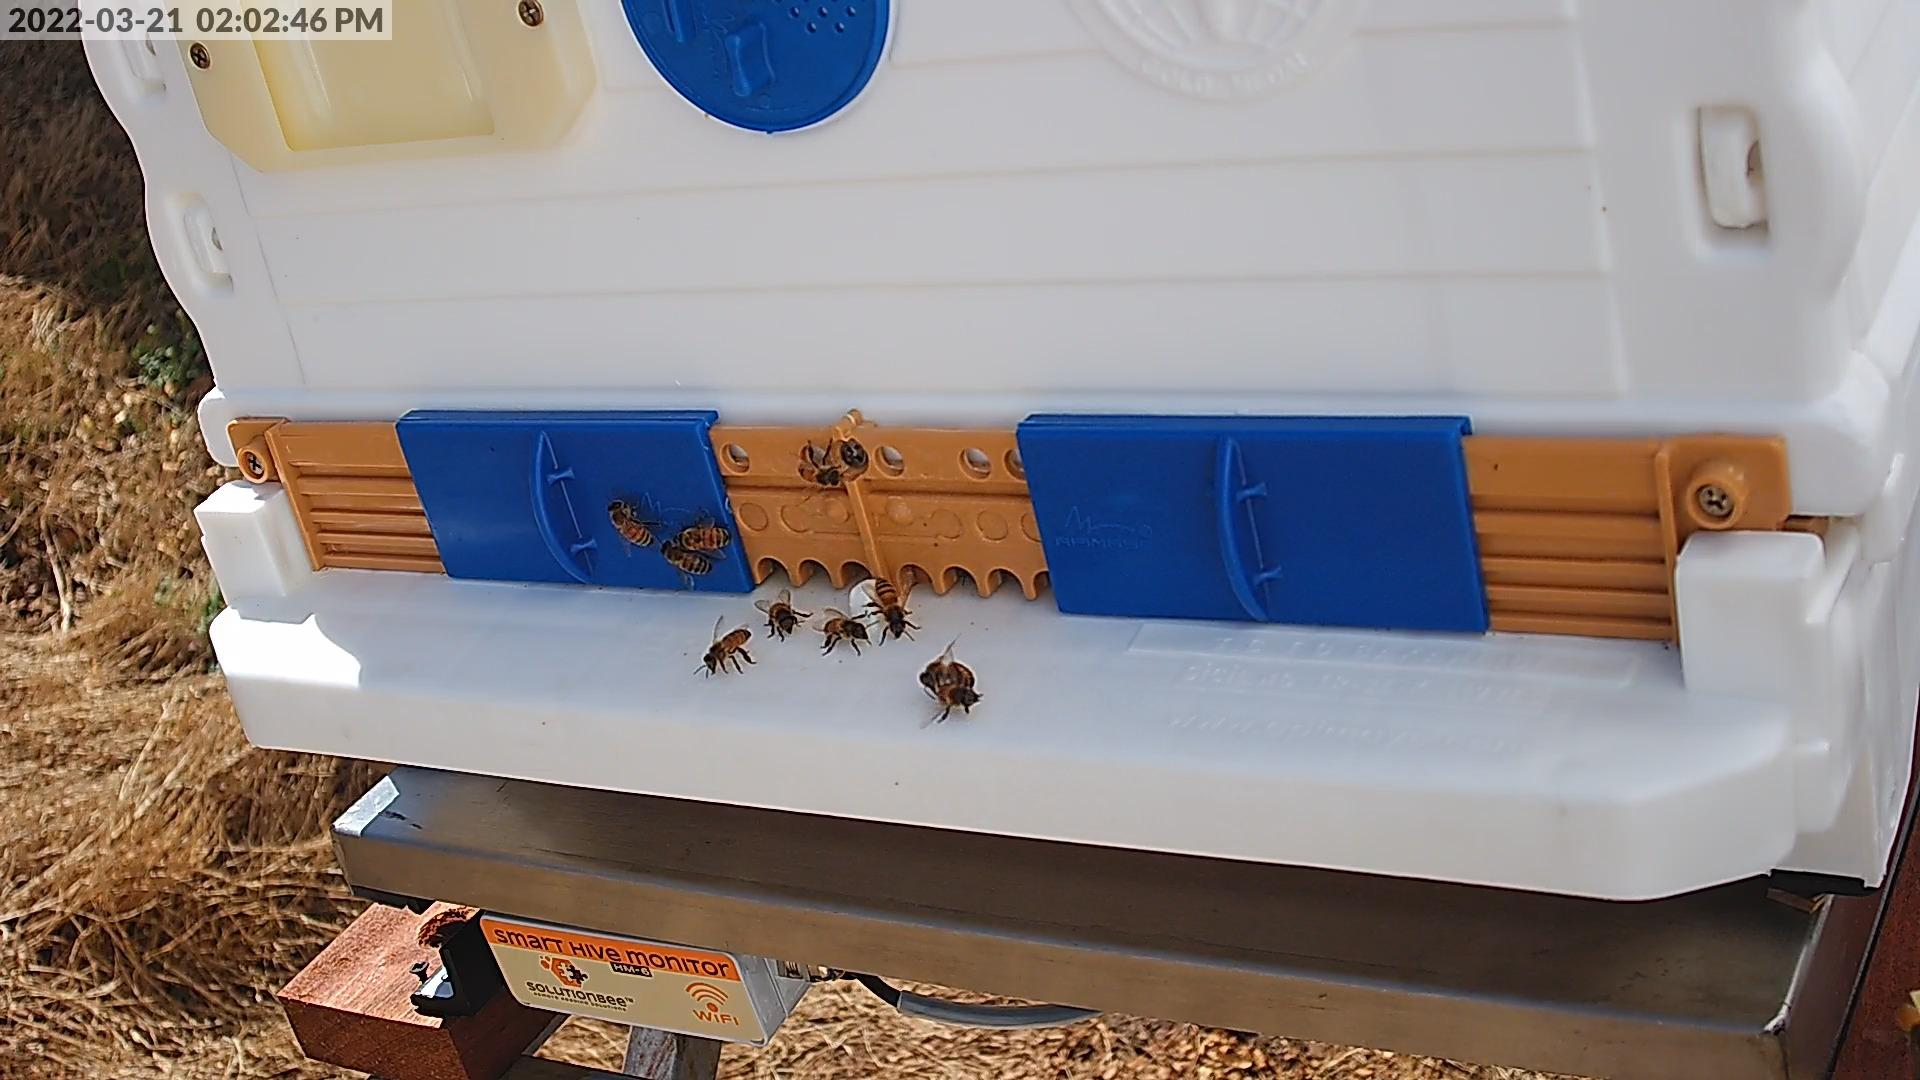bee: (607, 502, 655, 547), (704, 628, 753, 671), (657, 538, 711, 574), (873, 580, 906, 637), (673, 525, 731, 547), (794, 459, 839, 487), (822, 620, 868, 644), (932, 686, 980, 708), (924, 661, 971, 683), (769, 599, 793, 633)
